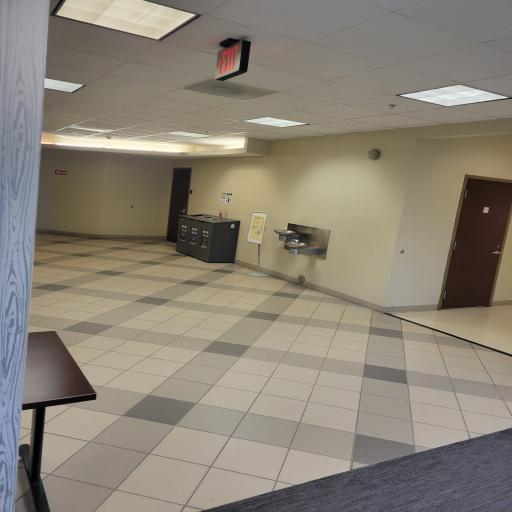exit sign: (212, 29, 257, 79)
trash cans: (167, 210, 244, 259)
water fountain: (446, 170, 512, 315), (286, 229, 329, 262), (274, 220, 296, 244)
